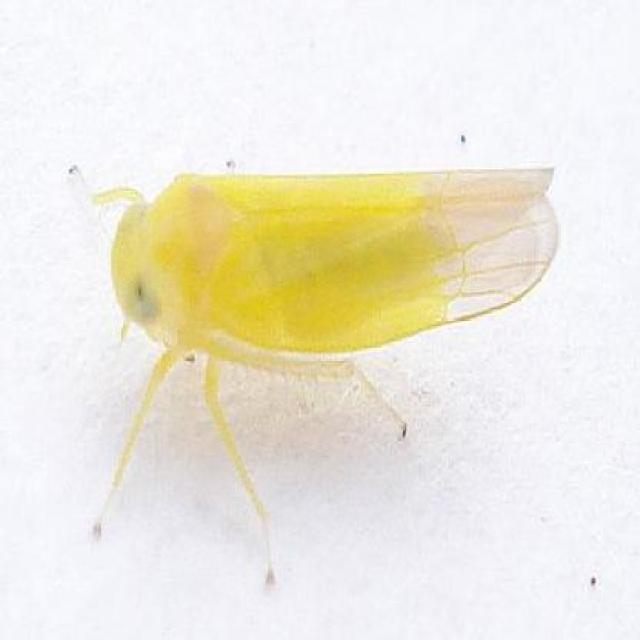green-leafhopper: (105, 163, 558, 372)
